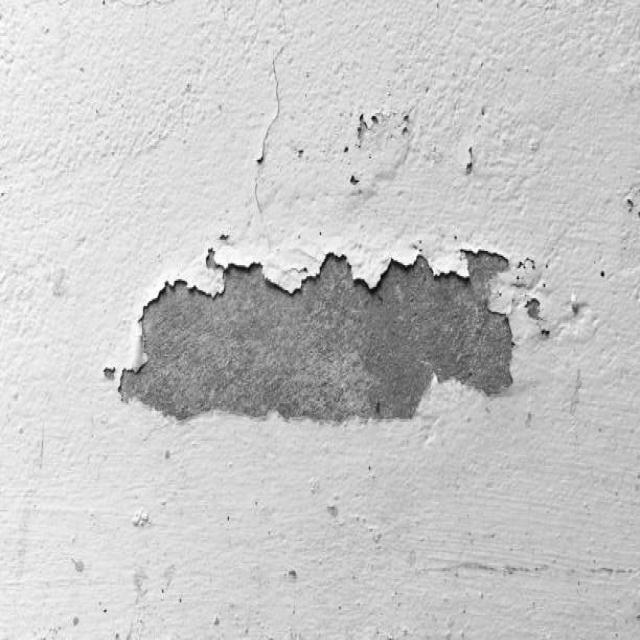peeling paint: (83, 80, 640, 532)
